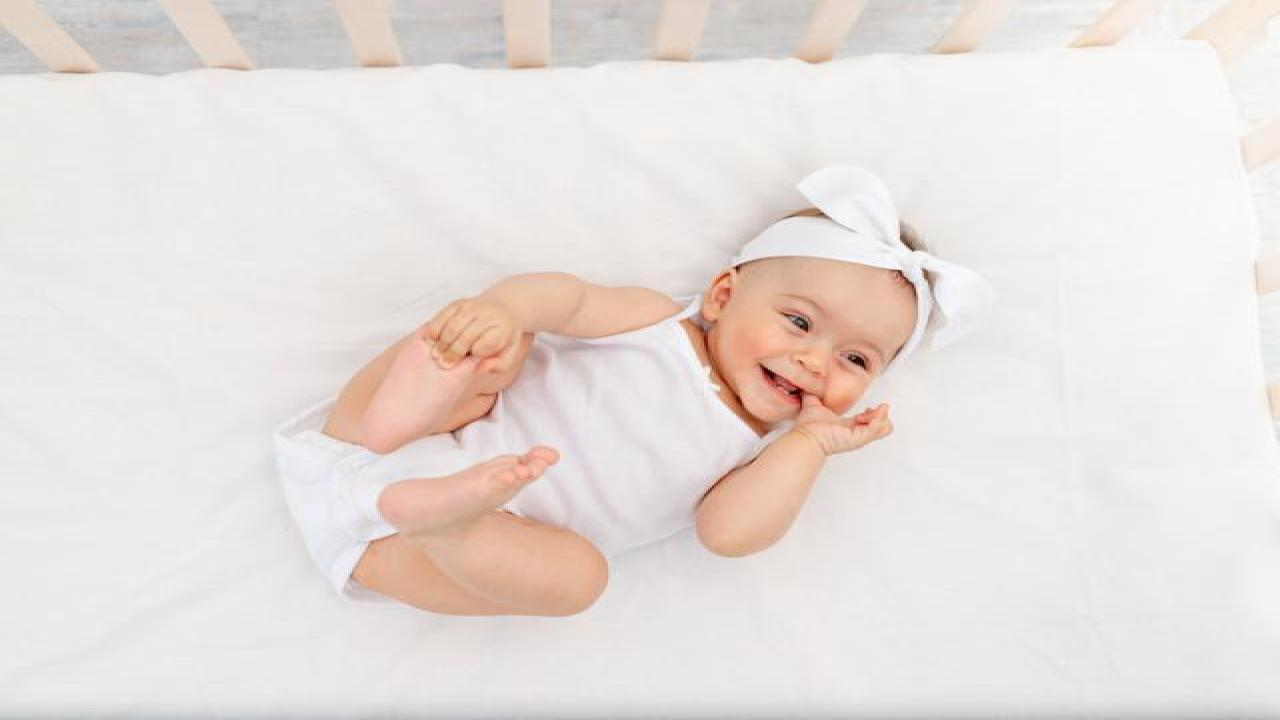hand: (425, 296, 523, 371), (802, 391, 890, 456)
